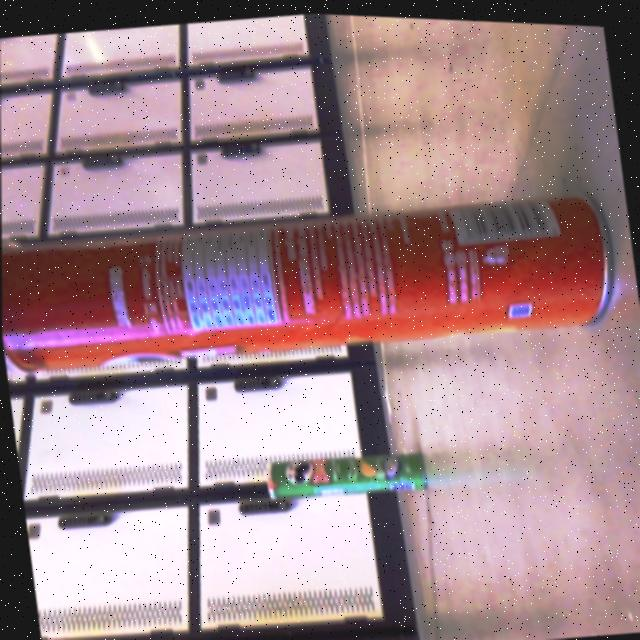greenpringles: (256, 419, 468, 533)
redpringles: (1, 147, 640, 438)
